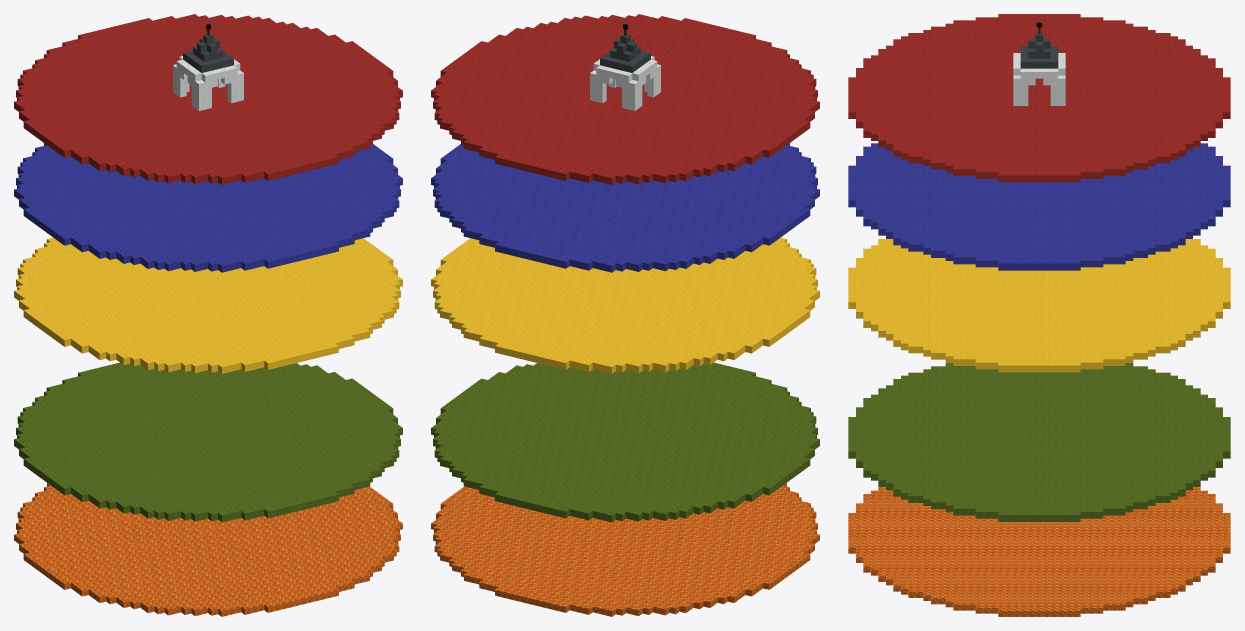
The model's file is minecraft.obj.
3 views of the same model, side by side, from view 1: azimuth 30°, elevation 25°; view 2: azimuth 150°, elevation 25°; view 3: azimuth 270°, elevation 25° (orthographic).
Size of the model in its own units: 510 by 755 by 510.
